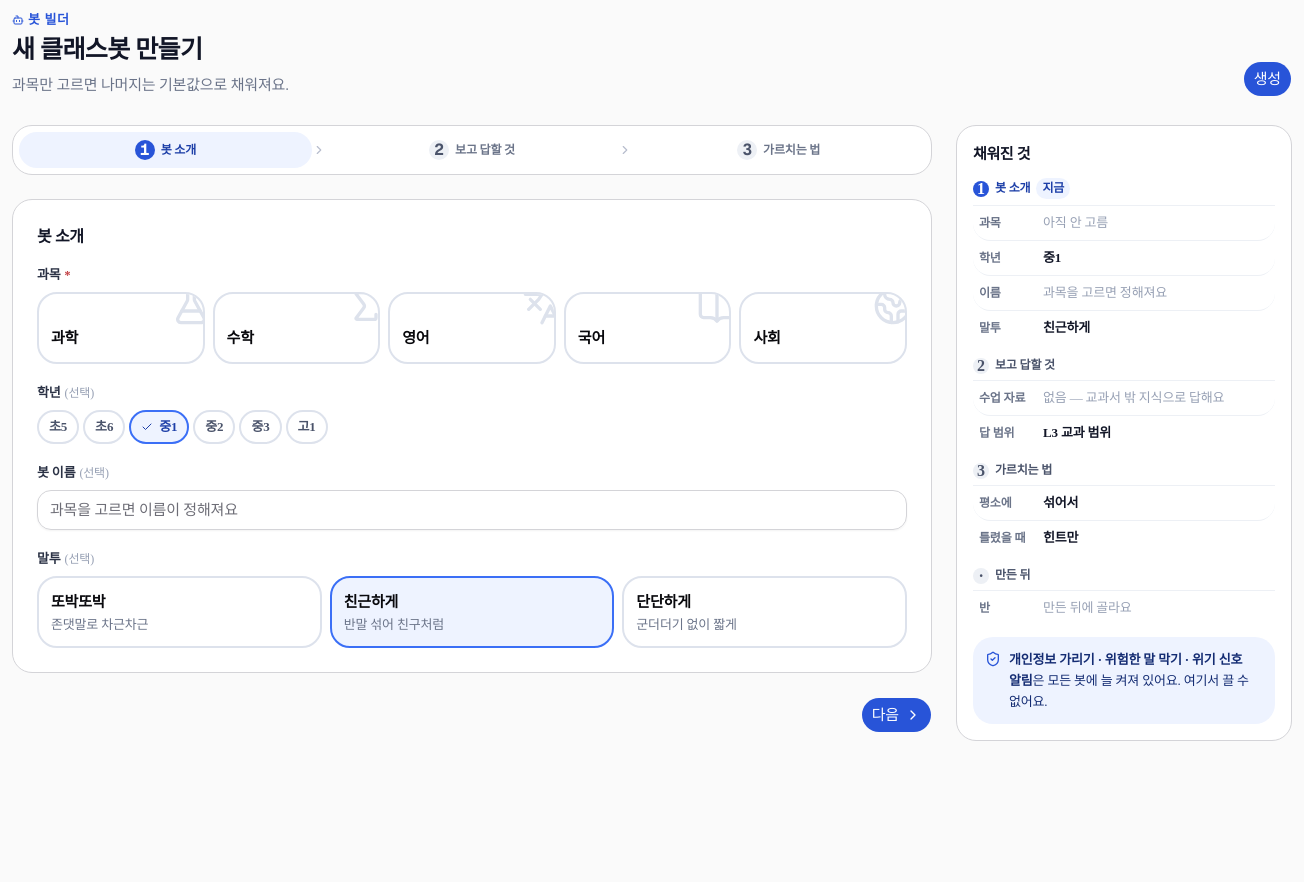
Scenario: 필수를 안 채우면 다음 마당으로 못 간다 › 필수가 없는 마당은 「다음」이 그냥 넘어간다
The image size is (1304, 882).
What coordinates should you click on to do the following:
click the radio button labelled "과학"
I would click on:
 (121, 328)
Its box is top-left (37, 292), bottom-right (205, 364).
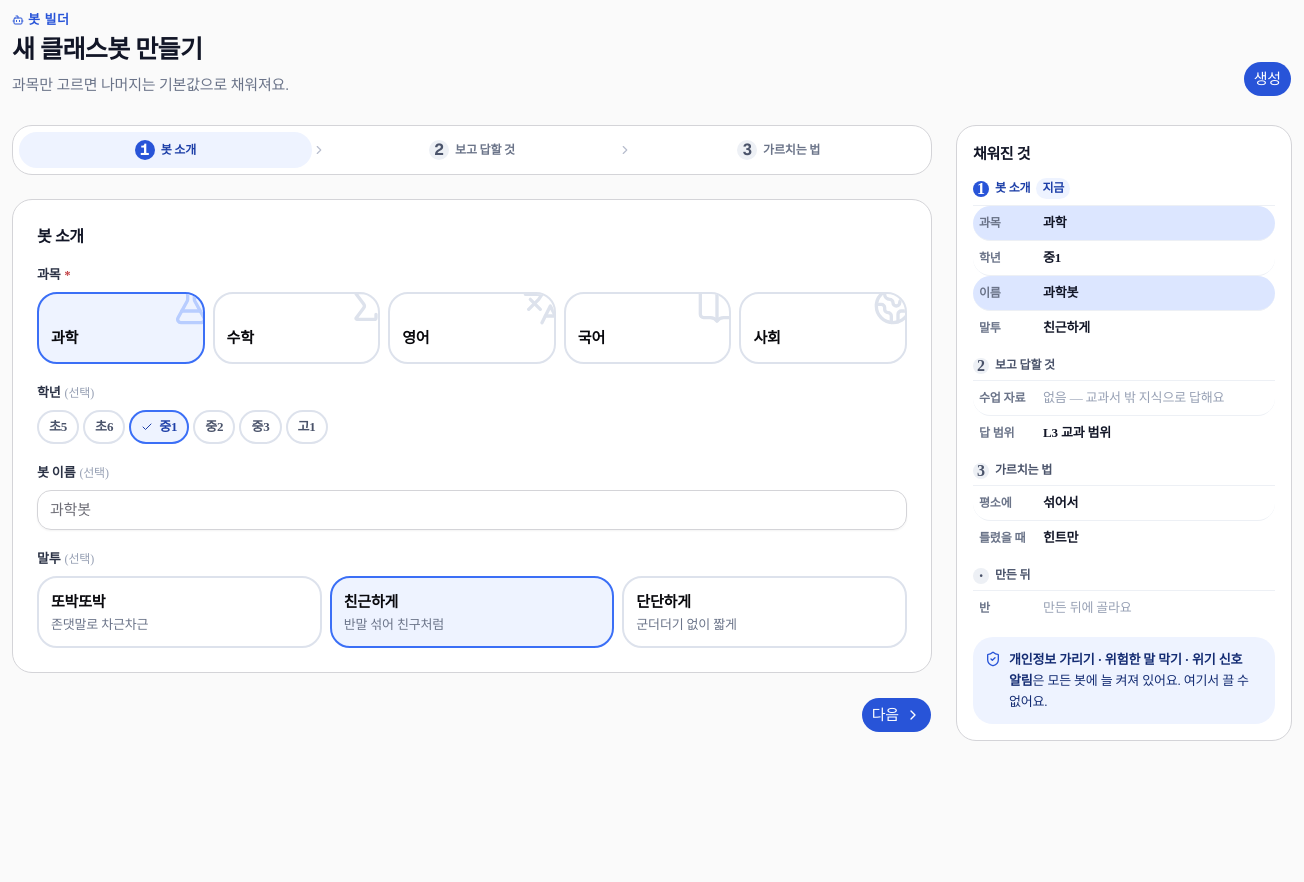
What coordinates should you click on to do the following:
click the button "다음"
I would click on:
 (896, 715)
Its box is top-left (861, 697), bottom-right (932, 733).
(page scrolled)
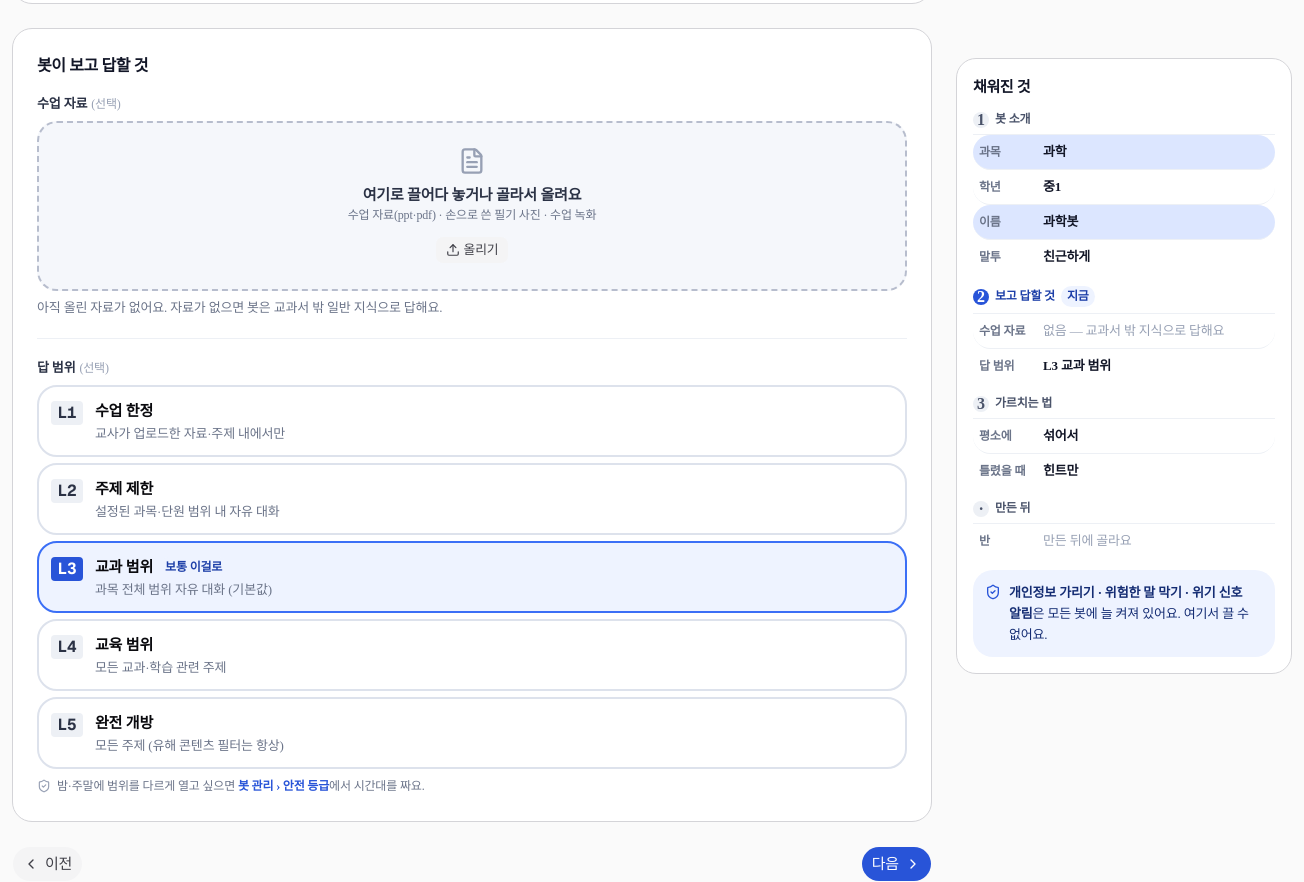
What coordinates should you click on to do the following:
click the button "다음"
I would click on:
 (896, 864)
Its box is top-left (861, 846), bottom-right (932, 881).
(page scrolled)
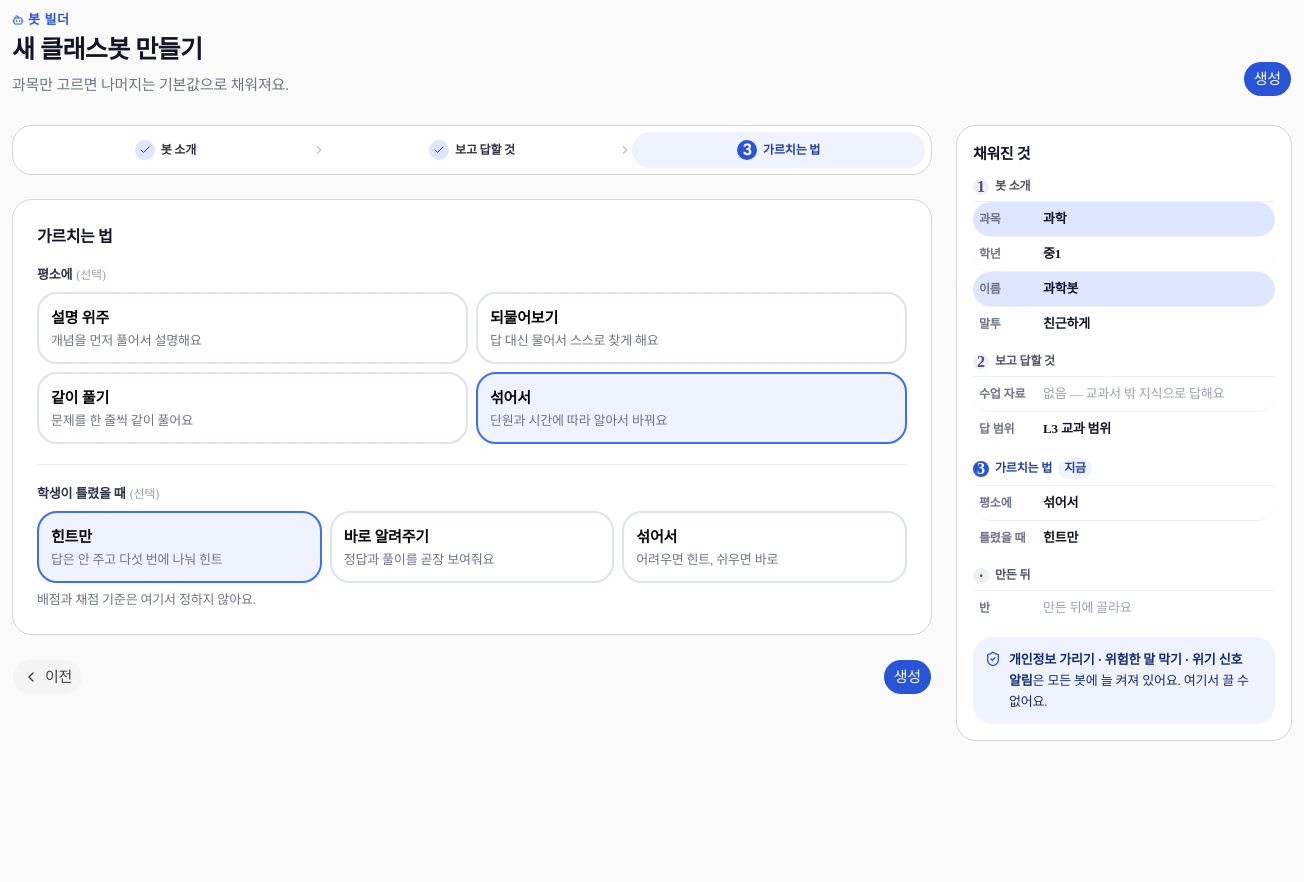
expect the heading "가르치는 법" is shown: met, box top-left (37, 228), bottom-right (112, 245)
